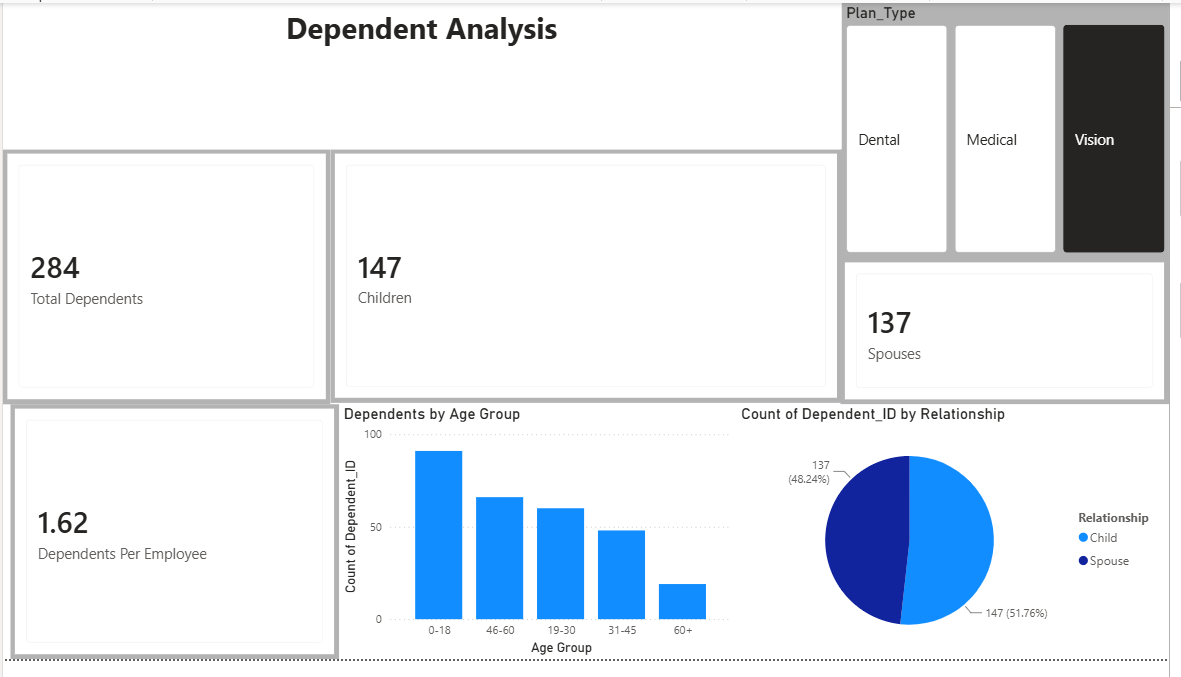

The dashboard page shown, as its layout file describes it:
{"tool":"powerbi","page":{"name":"Page 2","canvas":[1280,720],"ordinal":1},"visuals":[{"type":"cardVisual","fields":{"Data":["Benefits_Enrollment.Total Dependents"]},"box":[0,160.5,359.5,279.9],"z":0},{"type":"cardVisual","fields":{"Data":["Benefits_Enrollment.Spouses"]},"box":[919.4,279.9,360.9,160.5],"z":1000},{"type":"cardVisual","fields":{"Data":["Benefits_Enrollment.Dependents Per Employee"]},"box":[8.2,440.5,360.9,279.9],"z":2000},{"type":"clusteredColumnChart","title":"Dependents by Age Group","fields":{"Category":["Dependents.Age Group"],"Y":["CountNonNull(Dependents.Dependent_ID)"]},"box":[369.1,440.5,436.4,279.9],"z":3000},{"type":"pieChart","fields":{"Category":["Dependents.Relationship"],"Y":["CountNonNull(Dependents.Dependent_ID)"]},"box":[805.5,440.5,474.8,279.9],"z":4000},{"type":"advancedSlicerVisual","fields":{"Values":["Benefits_Enrollment.Plan_Type"]},"box":[920.8,0,359.5,279.9],"z":5000},{"type":"cardVisual","fields":{"Data":["Benefits_Enrollment.Children"]},"box":[359.5,160.5,561.2,278.6],"z":6000},{"type":"textbox","box":[0,0,919.4,160.5],"z":6001}]}

Visuals, with their boxes in screenshot pixels (x1, y1, x2, y2), scaled from the page's 1280x720 canvas onto the 1181x677 screenshot:
cardVisual - Benefits_Enrollment.Total Dependents: BBox(0, 151, 332, 414)
cardVisual - Benefits_Enrollment.Spouses: BBox(848, 263, 1180, 414)
cardVisual - Benefits_Enrollment.Dependents Per Employee: BBox(8, 414, 341, 676)
"Dependents by Age Group" clusteredColumnChart: BBox(341, 414, 743, 676)
pieChart - Dependents.Relationship x CountNonNull(Dependents.Dependent_ID): BBox(743, 414, 1180, 676)
advancedSlicerVisual - Benefits_Enrollment.Plan_Type: BBox(850, 0, 1180, 263)
cardVisual - Benefits_Enrollment.Children: BBox(332, 151, 849, 413)
textbox: BBox(0, 0, 848, 151)
